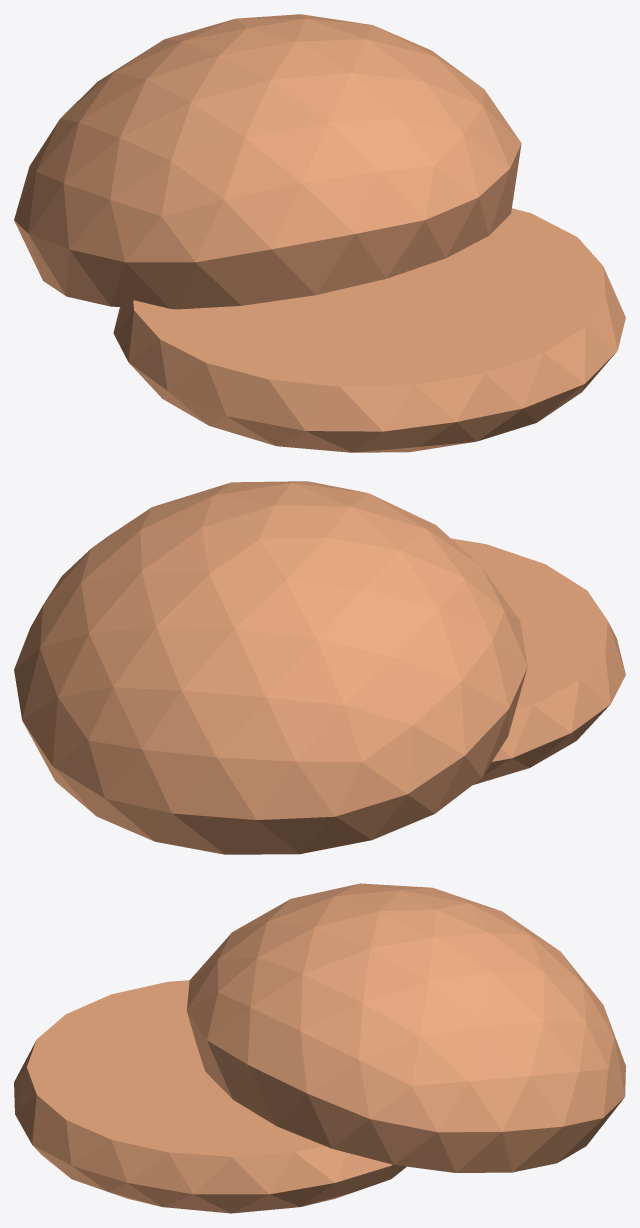
File: bun.fbx
The picture shows the model from 3 angles, top to bottom: view 1: azimuth 30°, elevation 25°; view 2: azimuth 150°, elevation 25°; view 3: azimuth 270°, elevation 25°; orthographic projection. The views are drawn at different scales.
Parts seen in each view (by area): view 1: Cylinder.001; view 2: Cylinder.001; view 3: Cylinder.001.
Part boxes in pixels (bbox=[...]): Cylinder.001: bbox=[14, 14, 625, 452]; Cylinder.001: bbox=[14, 481, 625, 854]; Cylinder.001: bbox=[14, 883, 625, 1213].
Bounding box in the file's own units: 36.44 × 49.7 × 22.84.
